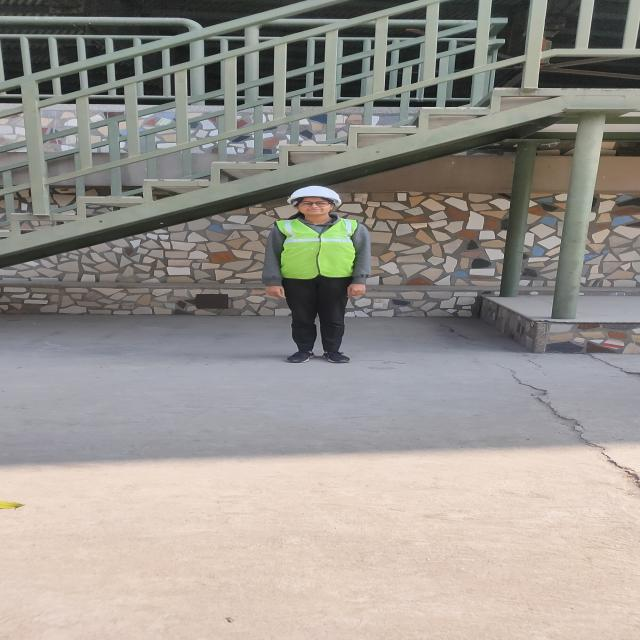safe: (263, 186, 371, 362)
